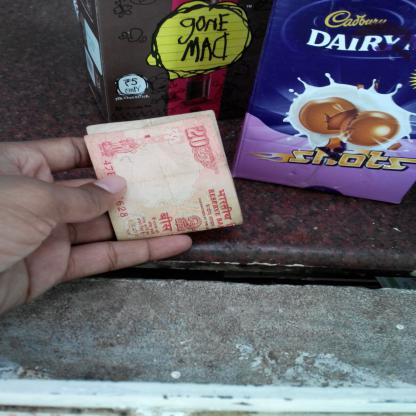Old20Front: (94, 126, 225, 242)
